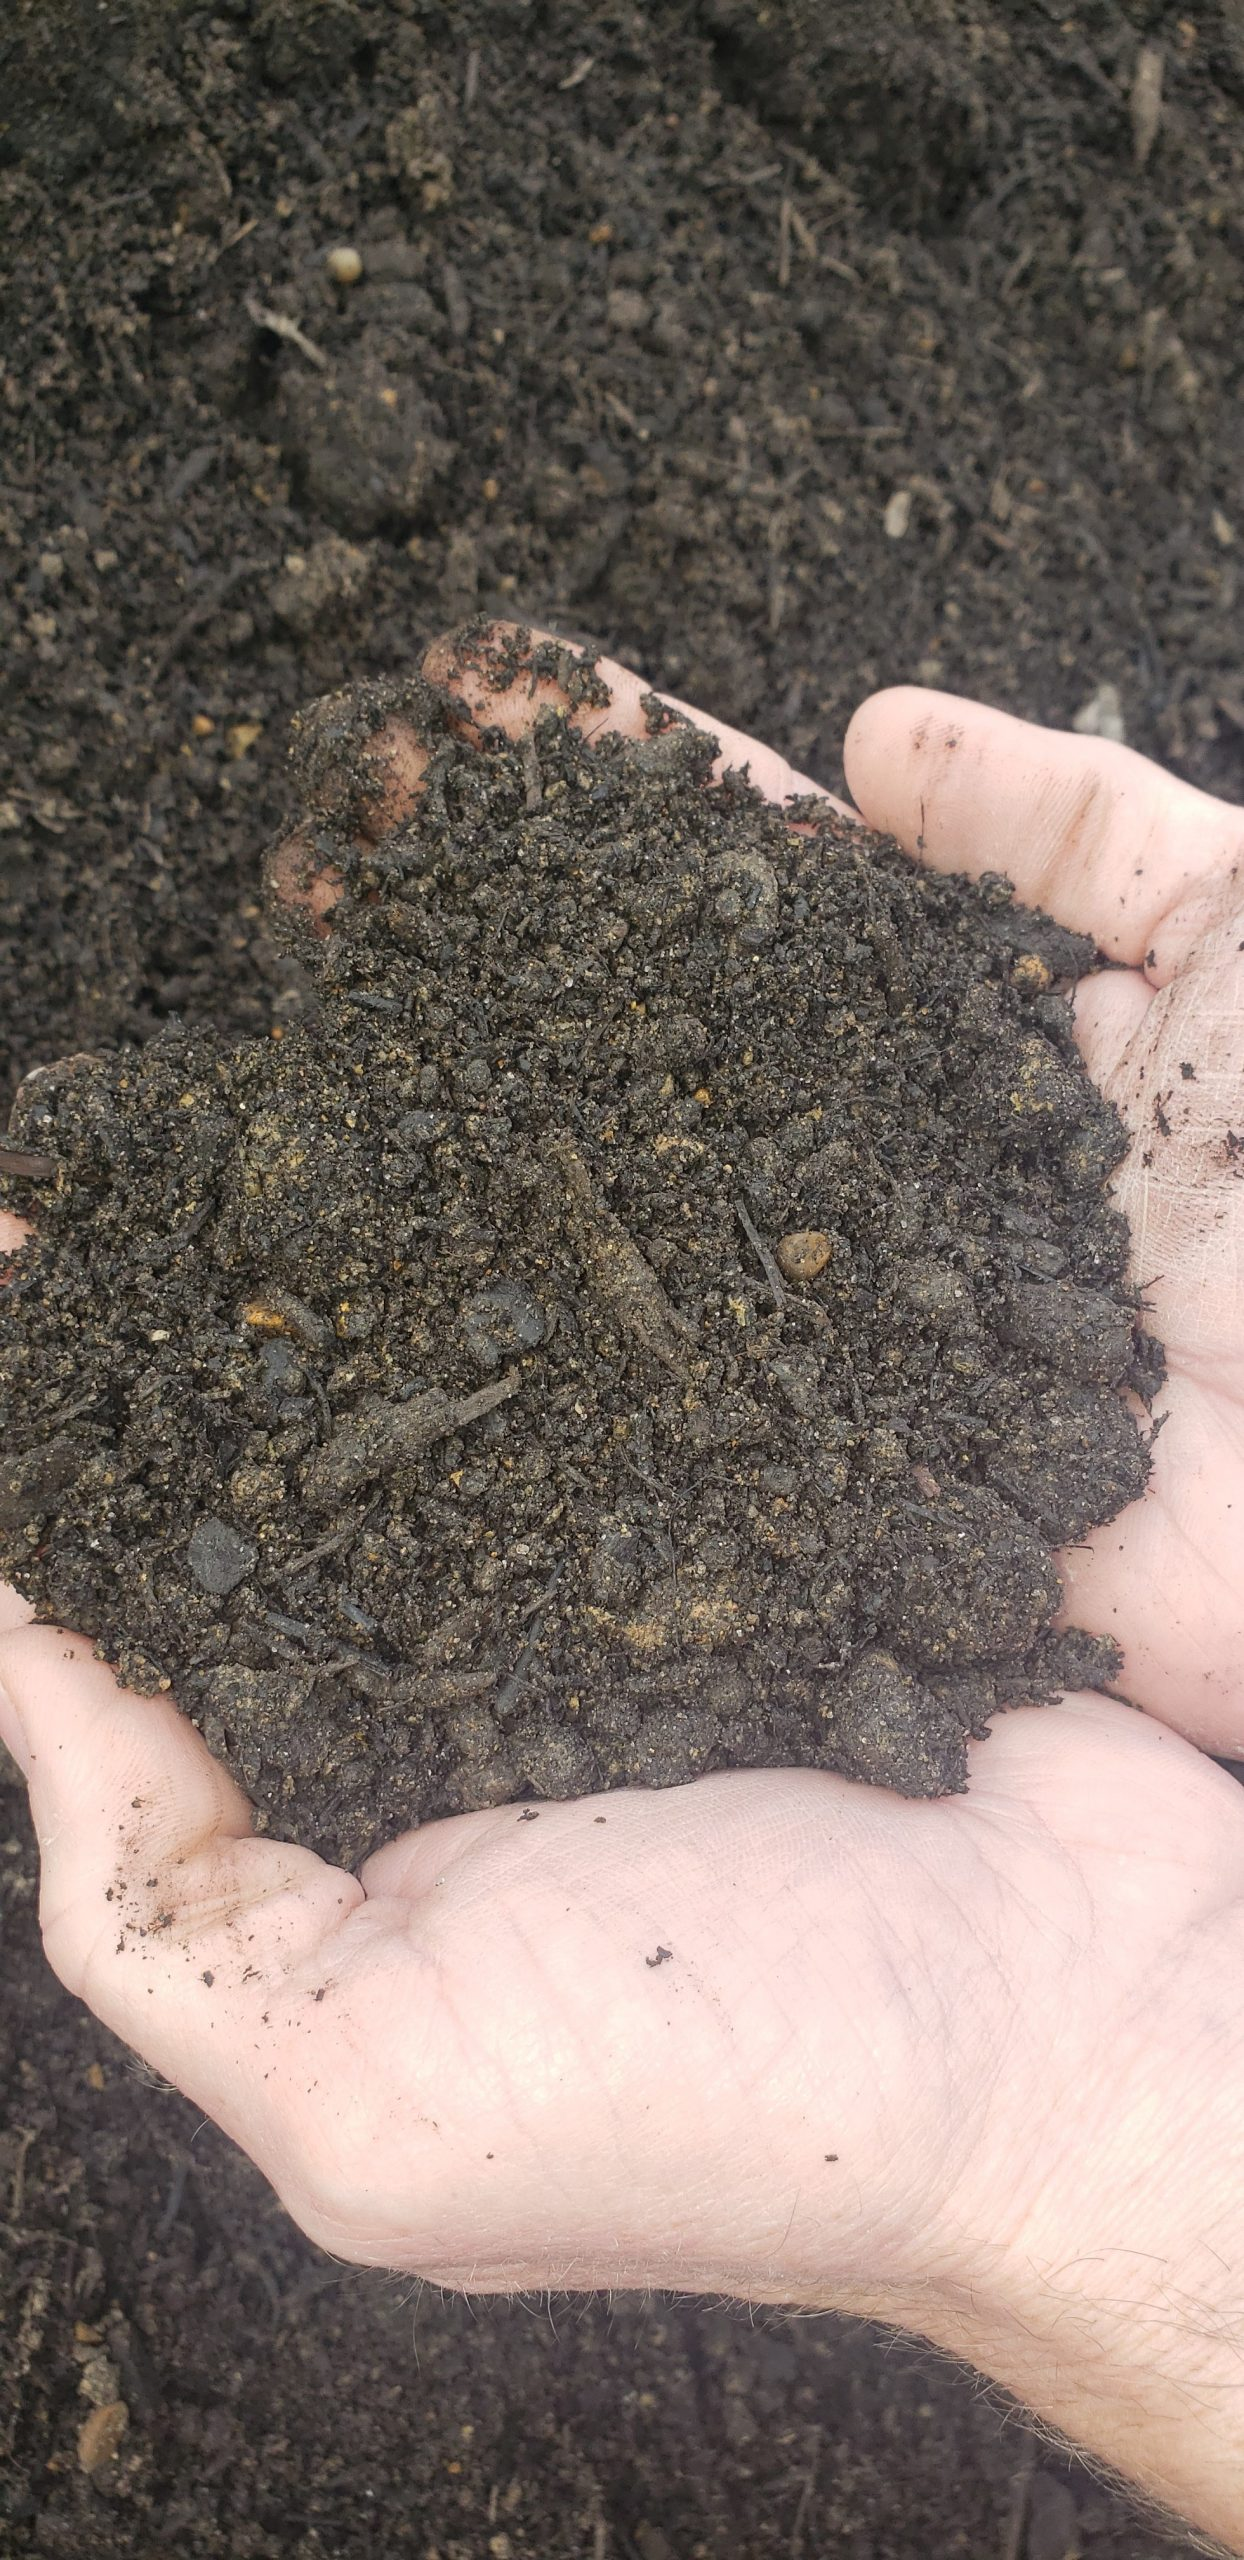dirt: (28, 736, 1130, 1847), (13, 13, 1237, 681), (18, 2002, 341, 2540), (356, 2276, 983, 2540)
